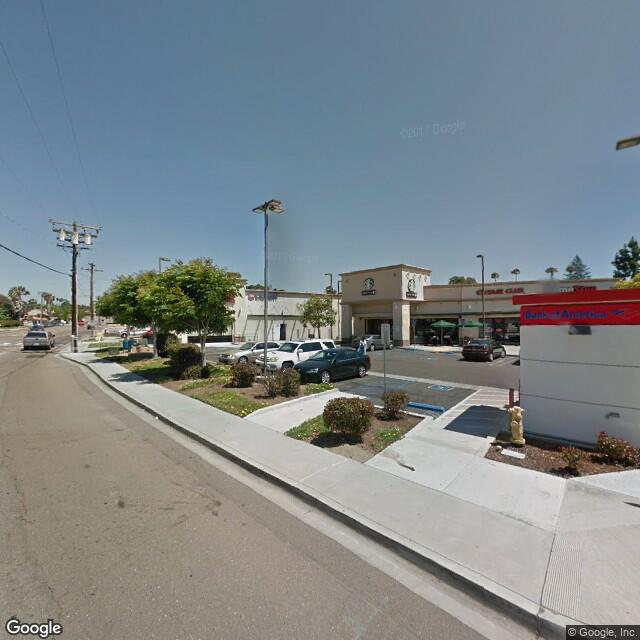litter: (151, 415, 162, 421)
